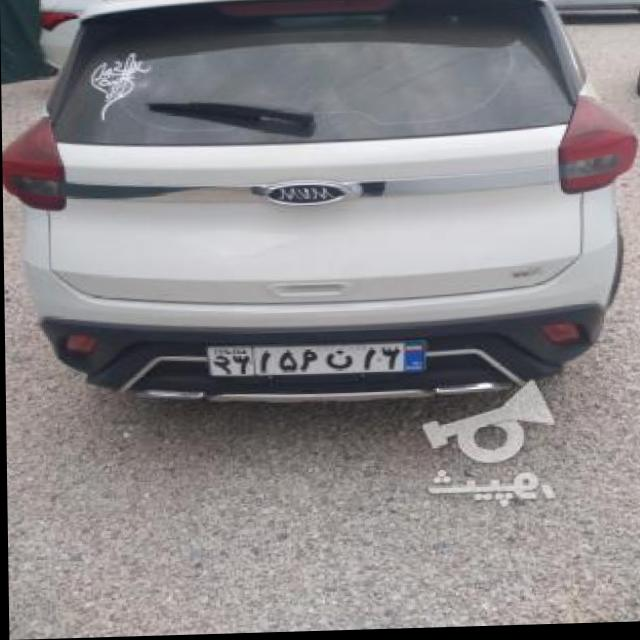licence: (209, 339, 429, 372)
